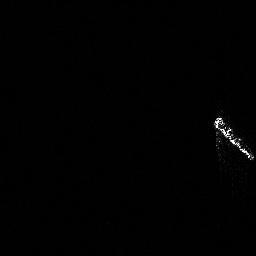ship: (212, 114, 254, 161)
